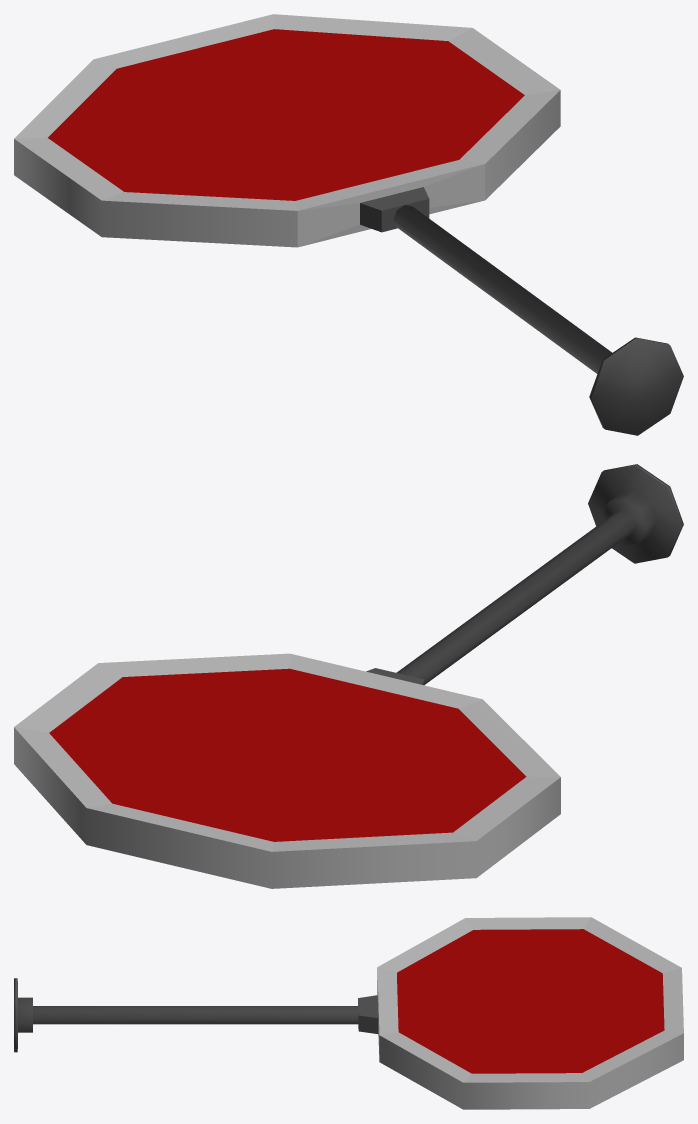
Rendered from Stopsign.FBX.
3 views of the same model, one above another, from view 1: azimuth 30°, elevation 25°; view 2: azimuth 150°, elevation 25°; view 3: azimuth 270°, elevation 25° (orthographic). The views are drawn at different scales.
Visible parts, largest first — view 1: Cylinder006; view 2: Cylinder006; view 3: Cylinder006.
Boxes of the visible parts, box(x1,y1,x2,y2) form: Cylinder006: box(14, 14, 683, 435); Cylinder006: box(14, 464, 683, 888); Cylinder006: box(14, 917, 683, 1109).
Size of the model in its own units: 53.92 by 10.81 by 92.17.
